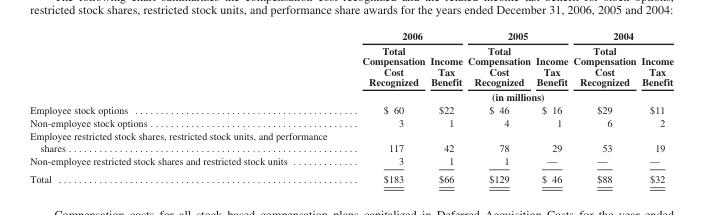table: (29, 29, 672, 184)
table column: (29, 29, 344, 184), (344, 29, 427, 184), (569, 29, 638, 184), (464, 29, 532, 184), (427, 29, 464, 184), (532, 29, 569, 184), (638, 29, 672, 184)
table column header: (29, 29, 672, 103)
table row: (29, 42, 672, 88), (29, 128, 672, 154), (29, 88, 672, 103), (29, 154, 672, 169), (29, 169, 672, 184), (29, 29, 672, 42), (29, 115, 672, 128), (29, 103, 672, 115)
table spanning cell: (344, 88, 672, 103), (344, 29, 464, 42), (464, 29, 569, 42), (569, 29, 672, 42)
